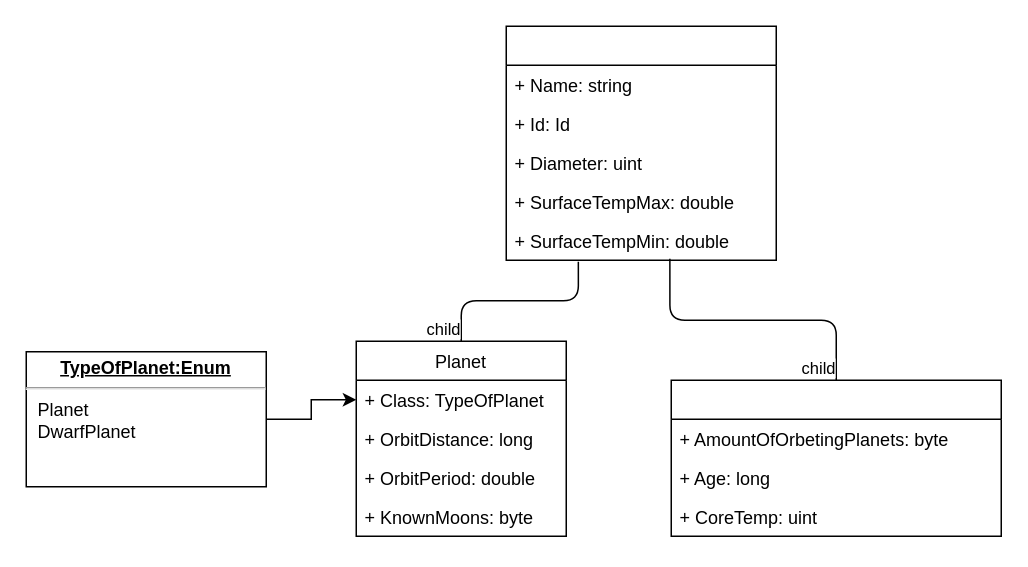
Image size: 1028x567. Some labels were removed from this diagram. The box of each missing label's shape, as (x1, y1, x2, y2) in pixels:
Object: (505, 25, 776, 260)
Star: (670, 379, 1001, 536)
